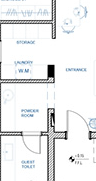door: (60, 106, 92, 145), (18, 123, 43, 161)
